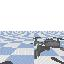drone: (30, 37, 64, 59)
